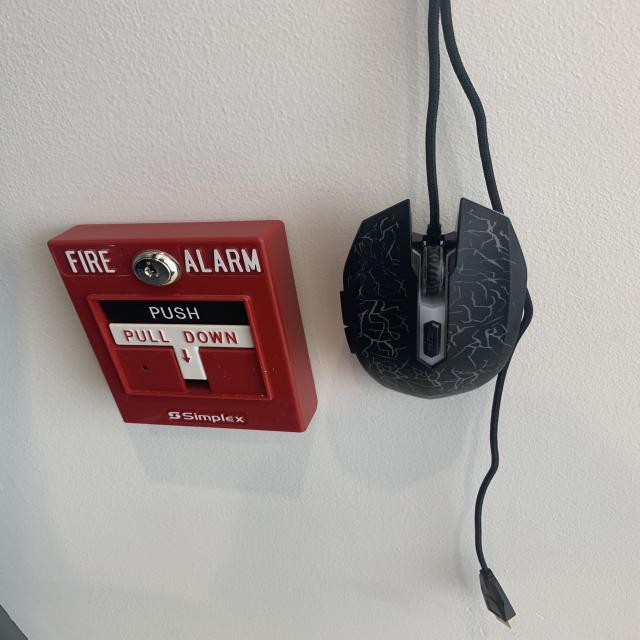Mouse: (338, 195, 534, 407)
